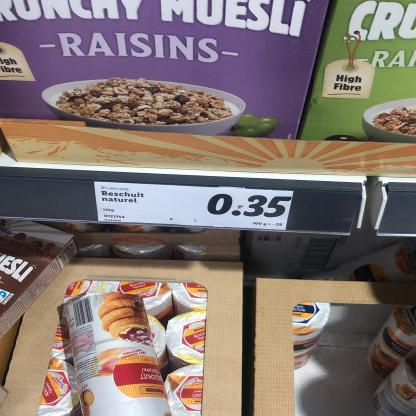prtg: (95, 183, 294, 231)
